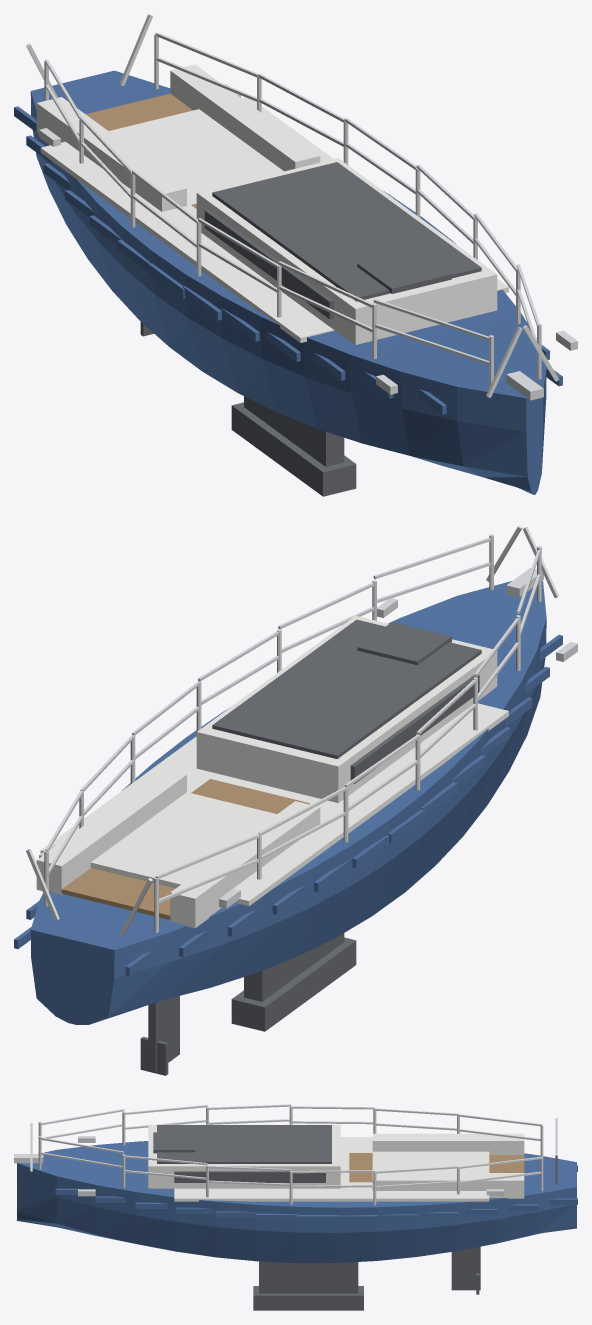
The model's file is marina-and-yacht-club-marina-and-yacht-club-sailing-ya-9e76ddc3__38303.glb.
3 renders of one model, top to bottom at view 1: azimuth 30°, elevation 25°; view 2: azimuth 150°, elevation 25°; view 3: azimuth 270°, elevation 25°, orthographic. The views are drawn at different scales.
Parts seen in each view (by area): view 1: marina-and-yacht-club-sailing-yacht-hull-navy; view 2: marina-and-yacht-club-sailing-yacht-hull-navy; view 3: marina-and-yacht-club-sailing-yacht-hull-navy.
Part boxes in pixels (x1=…): marina-and-yacht-club-sailing-yacht-hull-navy: x1=14, y1=14, x2=577, y2=496; marina-and-yacht-club-sailing-yacht-hull-navy: x1=14, y1=525, x2=577, y2=1075; marina-and-yacht-club-sailing-yacht-hull-navy: x1=14, y1=1104, x2=577, y2=1310.
Size of the model in its own units: 2.91 by 3.44 by 9.67.
